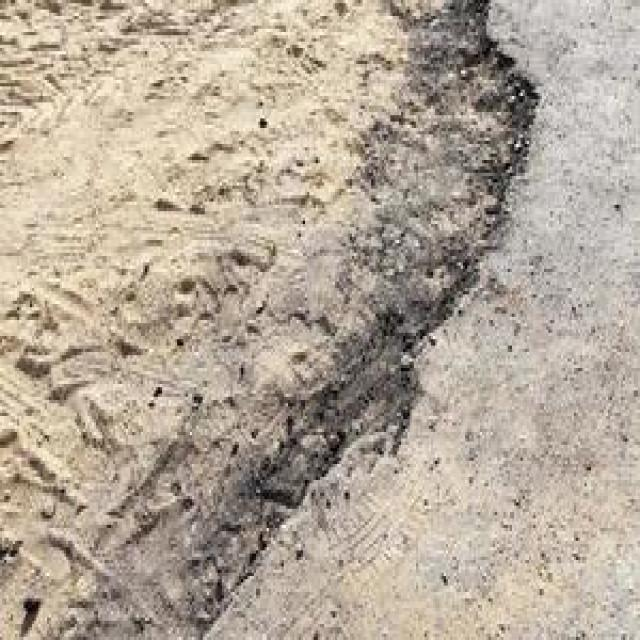road collapse: (112, 0, 598, 640)
